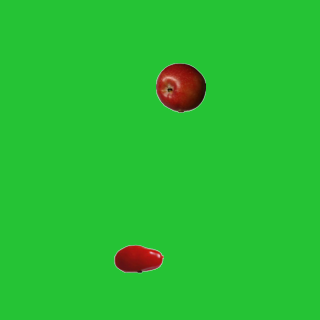Apple Braeburn: (155, 62, 205, 112)
Tomato 2: (113, 233, 163, 283)
